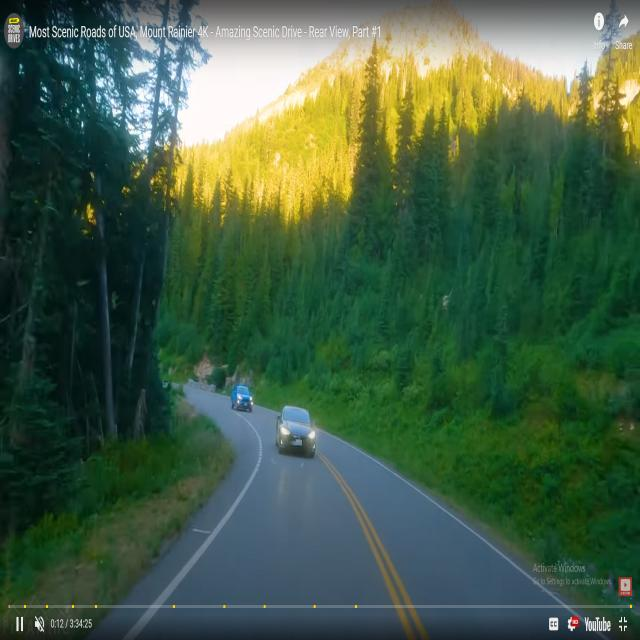headlights: (277, 421, 319, 453), (234, 389, 255, 411)
